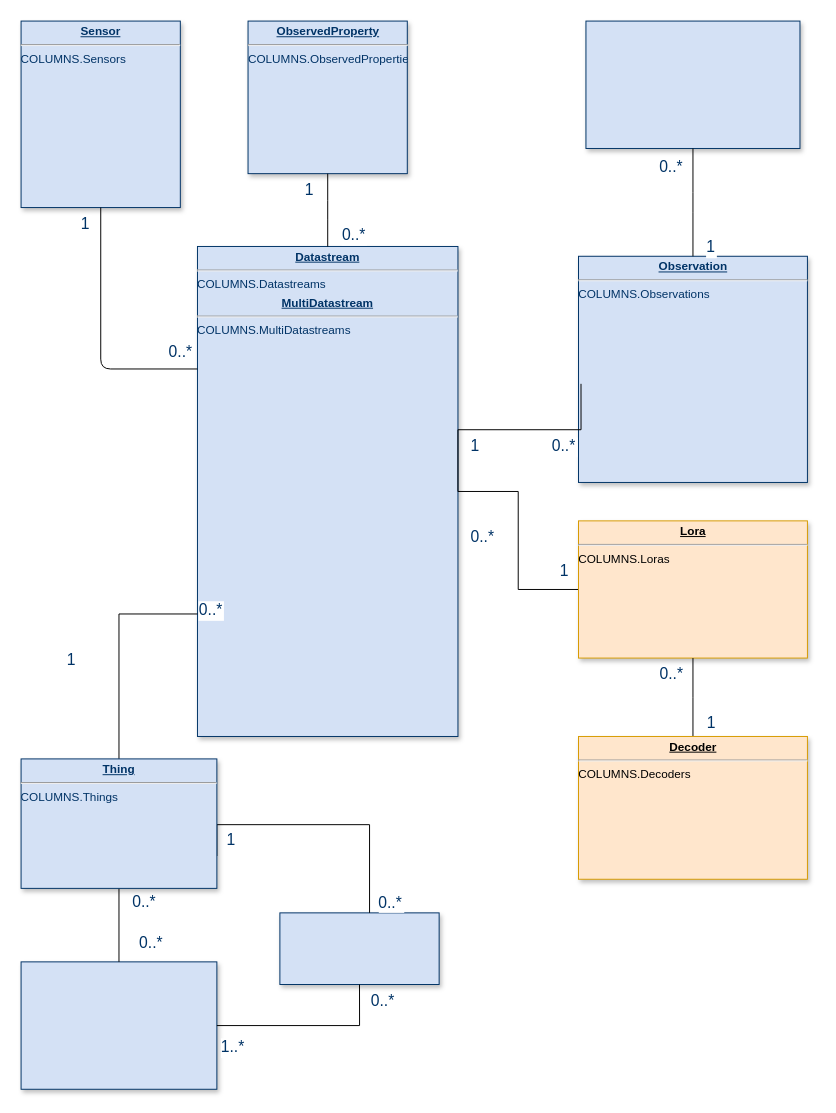
This 836x1113 diagram has some shape labels left out. Each missing label, with the centre of its shape:
"FeatureOfInterest COLUMNS.FeaturesOfInterest" goes at pixel 693 85.
"HistoricalLocation COLUMNS.HistoricalLocations" goes at pixel 360 949.
"Location COLUMNS.Locations" goes at pixel 119 1026.
